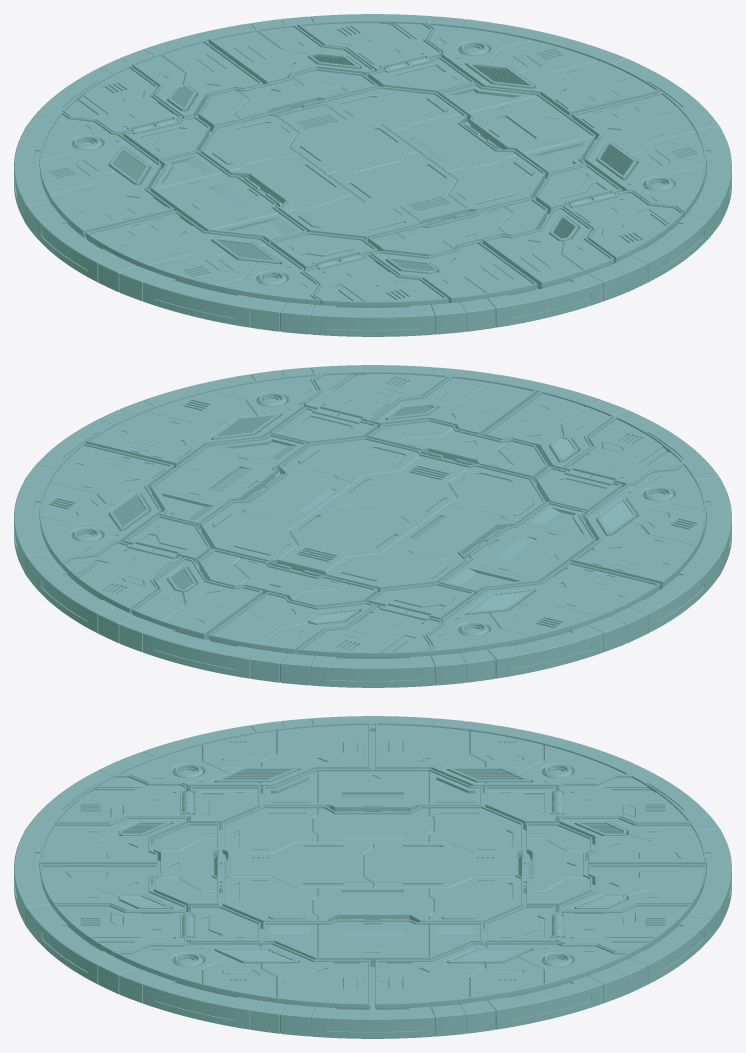
The model's file is gplatform.glb.
The picture shows the model from 3 angles, top to bottom: view 1: azimuth 30°, elevation 25°; view 2: azimuth 150°, elevation 25°; view 3: azimuth 270°, elevation 25°; orthographic projection.
Visible parts, largest first — view 1: G_01, G_05, G_02, G_04; view 2: G_01, G_05, G_02, G_04; view 3: G_01, G_05, G_02, G_04, G_03.
Boxes of the visible parts, x1,y1,x2,y2 form: G_01: [41, 23, 704, 307]; G_05: [14, 14, 731, 336]; G_02: [39, 20, 706, 306]; G_04: [72, 41, 673, 284]; G_01: [41, 374, 704, 658]; G_05: [14, 365, 731, 687]; G_02: [39, 371, 706, 657]; G_04: [72, 392, 673, 635]; G_01: [41, 725, 704, 1009]; G_05: [14, 716, 731, 1038]; G_02: [39, 722, 706, 1008]; G_04: [119, 764, 626, 966]; G_03: [39, 731, 706, 1009].
Size of the model in its own units: 82.96 by 3.08 by 82.96.
